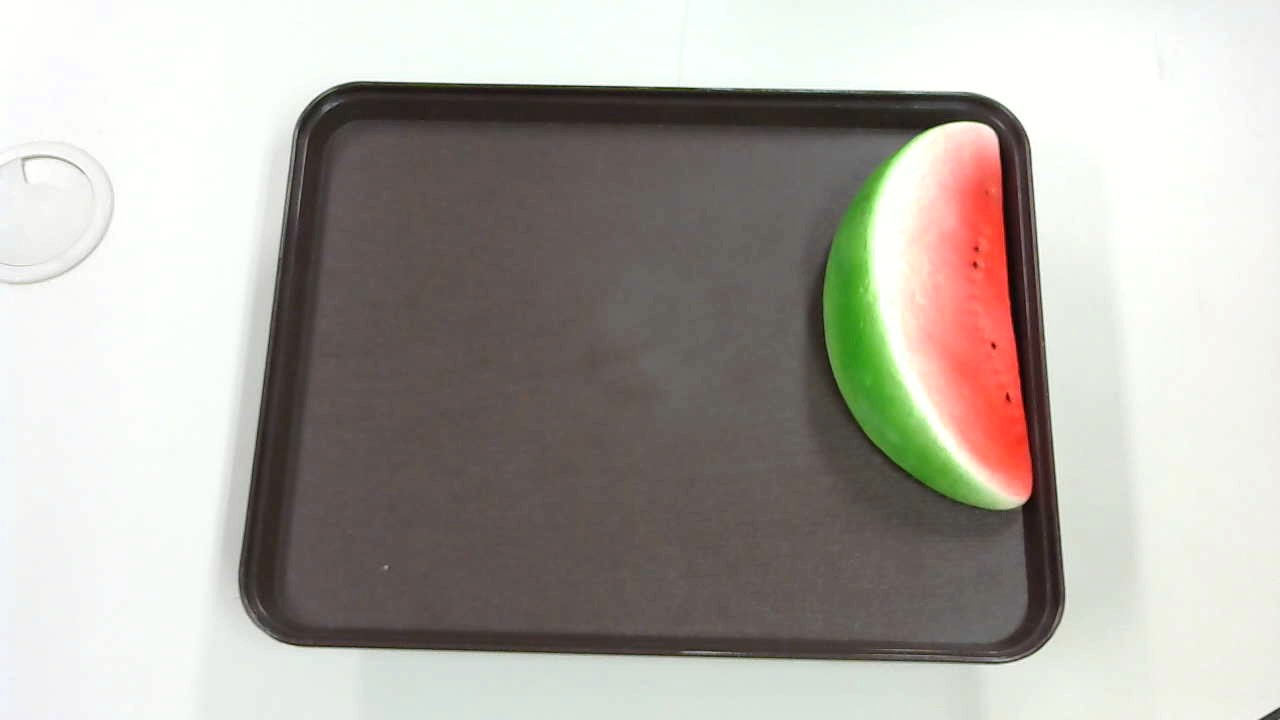water melon: (808, 112, 1064, 532)
